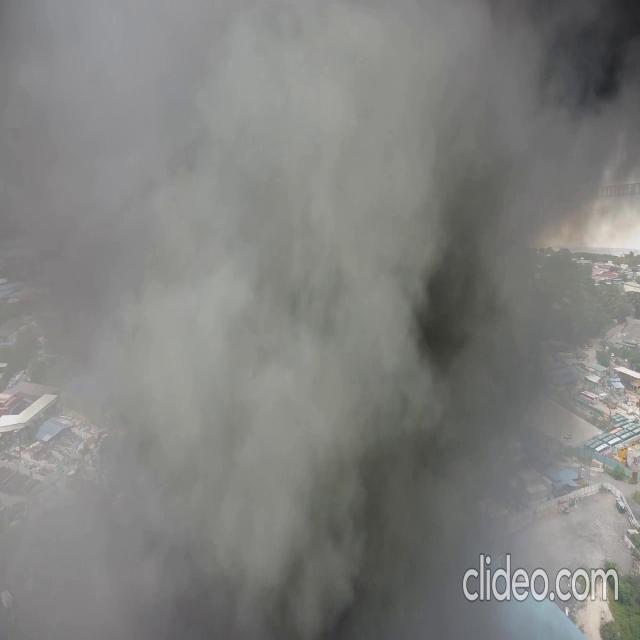Smoke: (39, 1, 620, 638)
